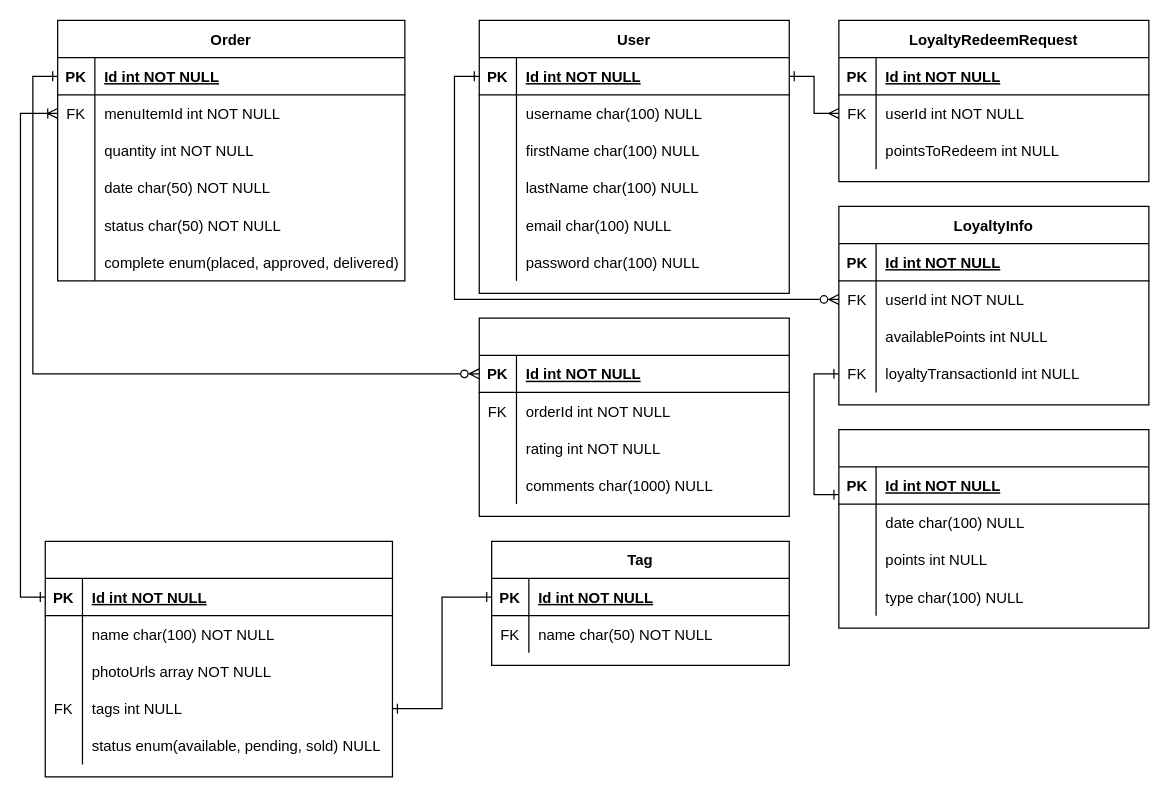
Image size: 1169x797. Some labels were removed from this diagram. Here are the shapes that lost their labels. From the top down, the box of each, then its label:
(478, 317, 789, 516): Review
(838, 428, 1149, 628): LoyaltyTransaction
(44, 540, 392, 777): MenuItem
